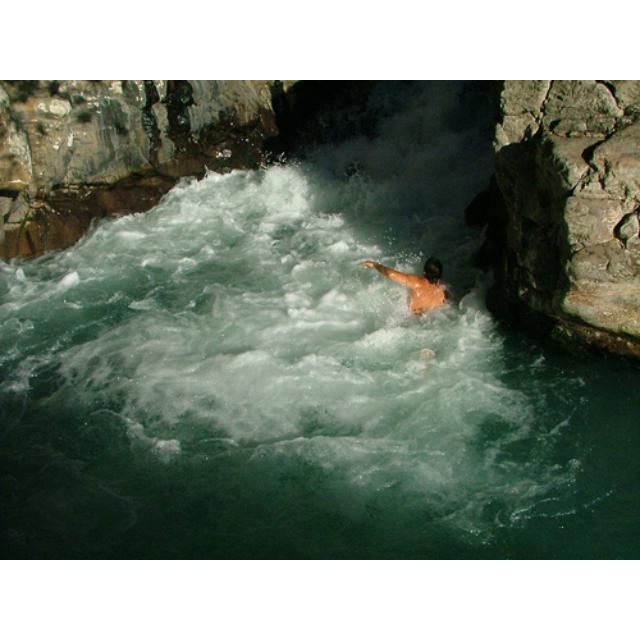human: (361, 254, 450, 316)
